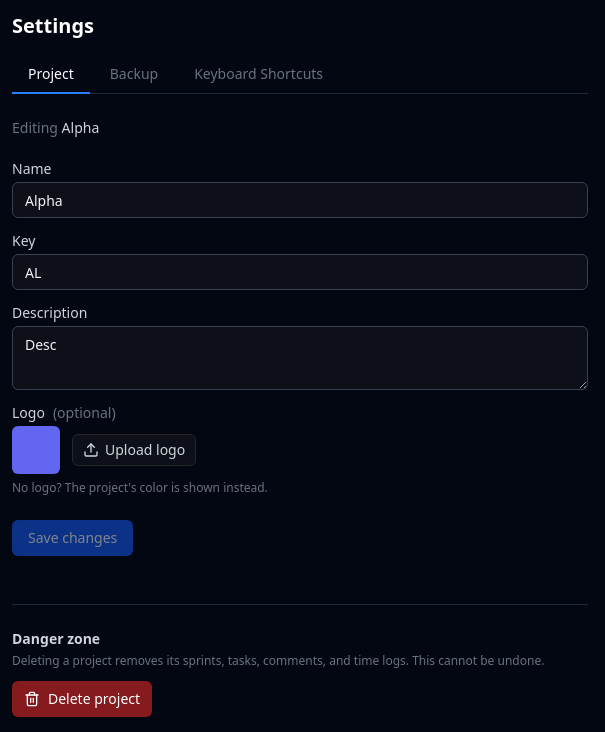
Settings — delete › shows delete confirmation when delete button is clicked
Expected: the field showing "Alpha" is shown, [12, 182, 588, 218]
Click the button "Delete project" at (82, 699), box [12, 681, 152, 717]
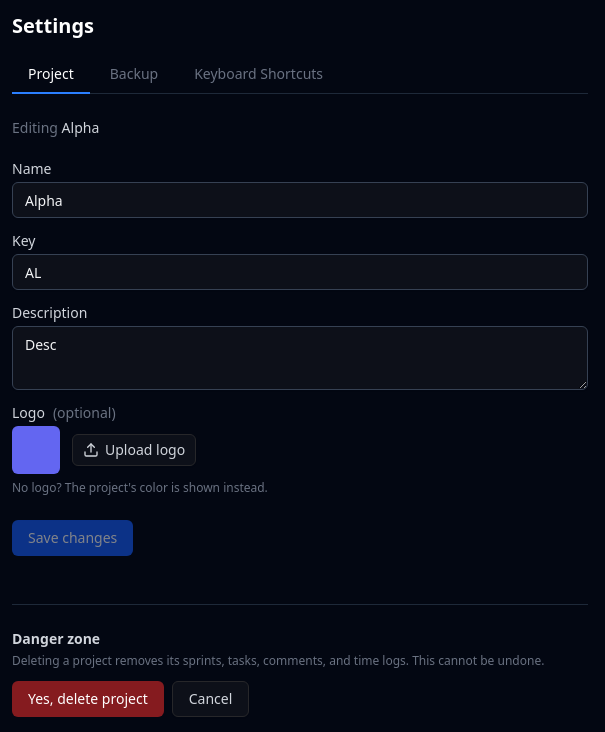
Result: the button "Yes, delete project" is shown at [12, 681, 164, 717]
Result: the button "Cancel" is shown at [172, 681, 249, 717]
